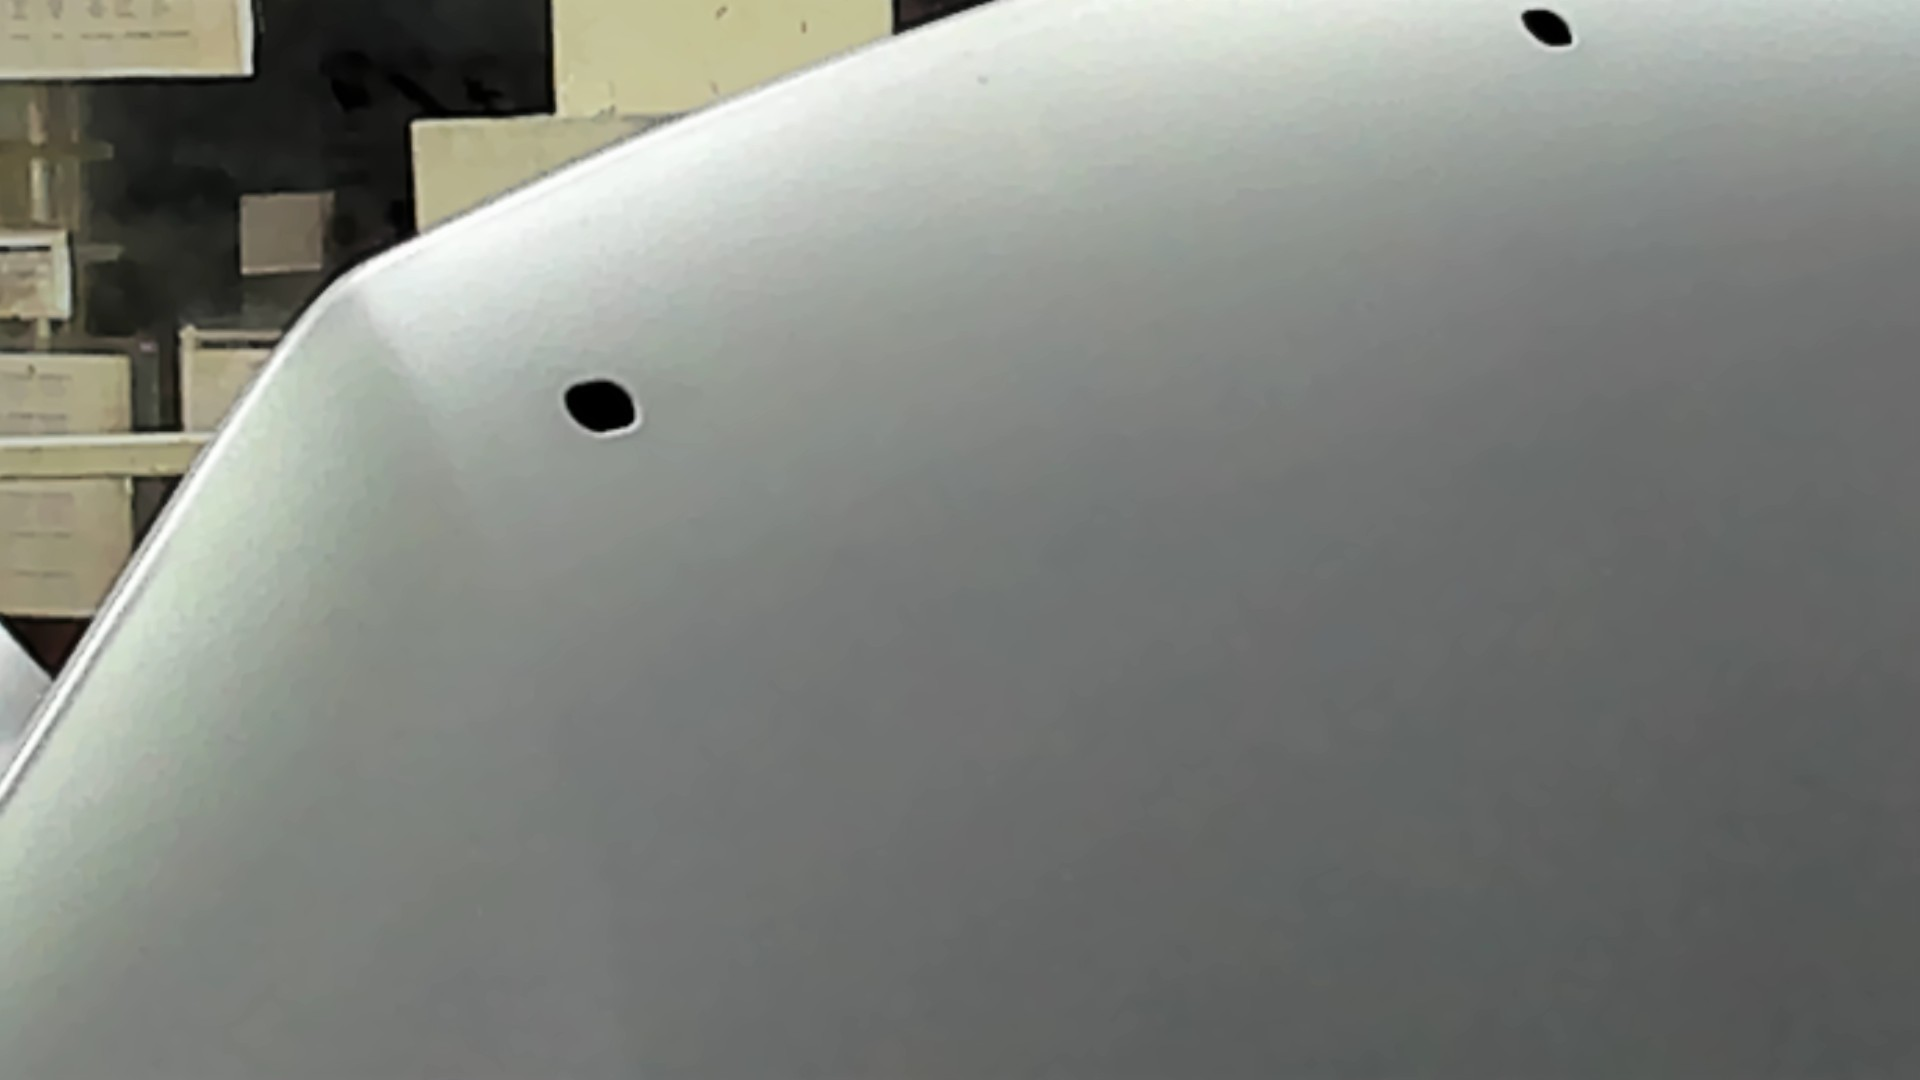amorfo: (560, 369, 644, 440), (1515, 4, 1584, 59)
